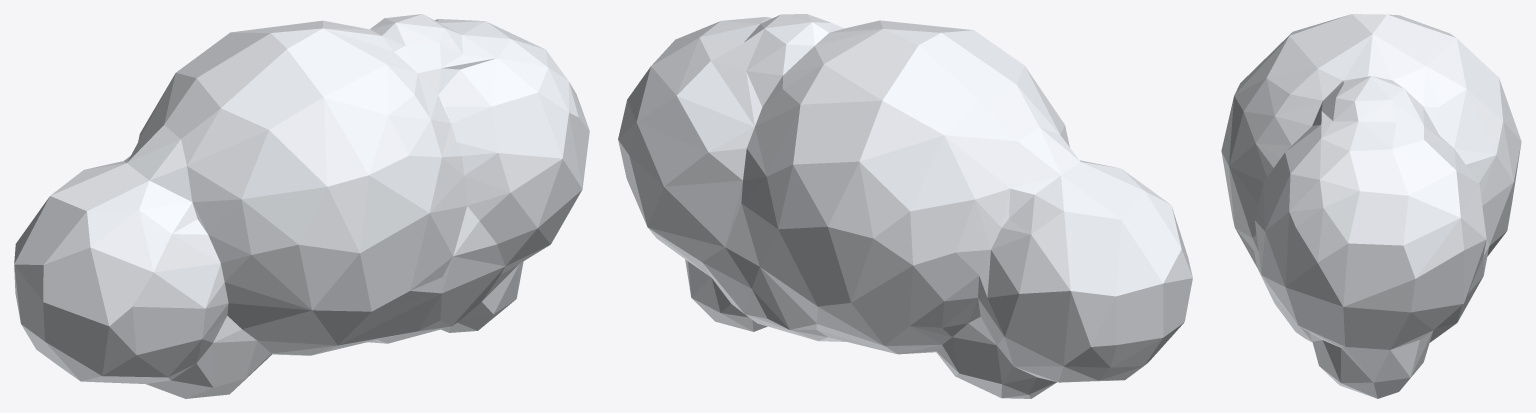
Rendered from Clould_A.glb.
3 renders of one model, left to right at view 1: azimuth 30°, elevation 25°; view 2: azimuth 150°, elevation 25°; view 3: azimuth 270°, elevation 25°, orthographic. The views are drawn at different scales.
Visible parts, largest first — view 1: Clould_A; view 2: Clould_A; view 3: Clould_A.
Part boxes in pixels (box(x1,y1,x2,y2)): Clould_A: box(14, 14, 589, 398); Clould_A: box(618, 14, 1192, 398); Clould_A: box(1221, 14, 1521, 398).
Size of the model in its own units: 68.68 by 40.12 by 36.69.
Materials: 1 (1 with a texture image).
